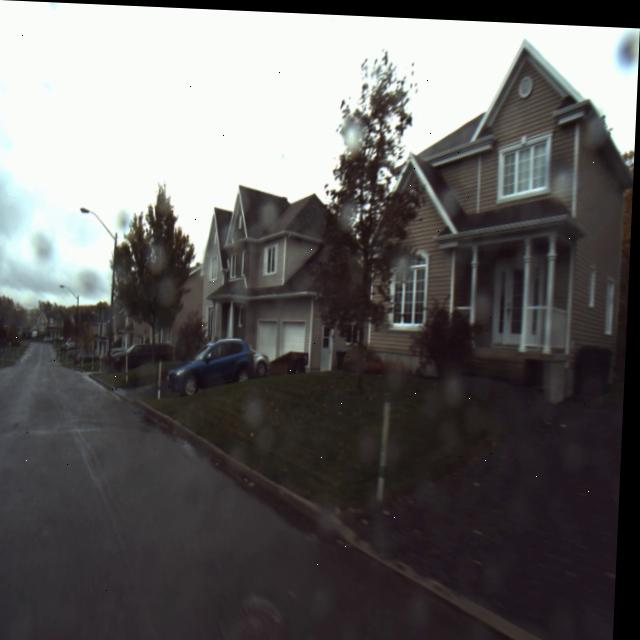car: (165, 325, 260, 399)
